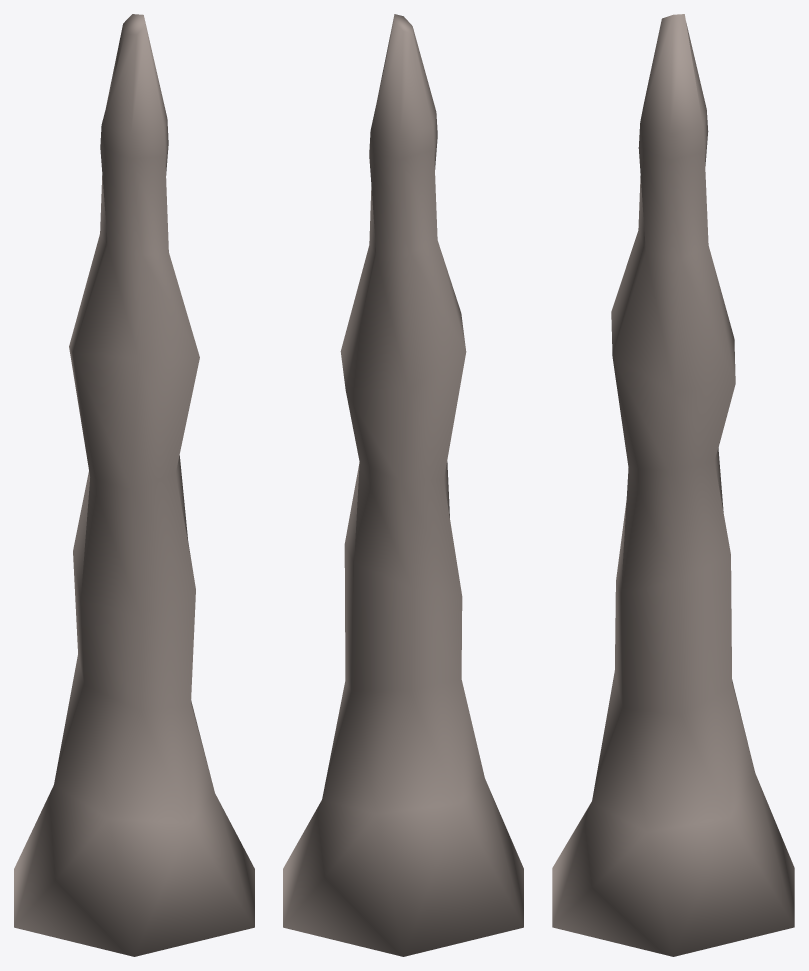
Rendered from SM_Stalagmite_Var1.fbx.
The picture shows the model from 3 angles, left to right: view 1: azimuth 30°, elevation 25°; view 2: azimuth 150°, elevation 25°; view 3: azimuth 270°, elevation 25°; orthographic projection.
Visible parts, largest first — view 1: SM_Stalagmite_Var1; view 2: SM_Stalagmite_Var1; view 3: SM_Stalagmite_Var1.
Boxes of the visible parts, <box> form: SM_Stalagmite_Var1: <box>14,14,254,956</box>; SM_Stalagmite_Var1: <box>283,14,523,956</box>; SM_Stalagmite_Var1: <box>552,14,794,956</box>.
Bounding box in the file's own units: 244 × 853 × 211.
